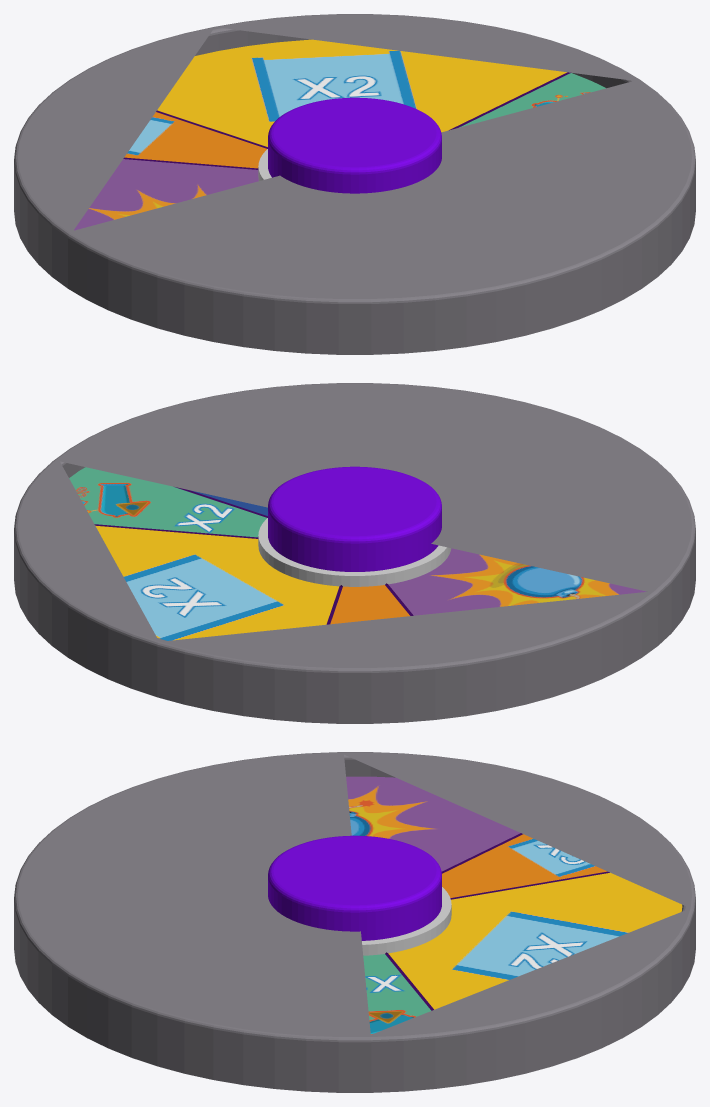
File: rulet.fbx
The picture shows the model from 3 angles, top to bottom: view 1: azimuth 30°, elevation 25°; view 2: azimuth 150°, elevation 25°; view 3: azimuth 270°, elevation 25°; orthographic projection.
Parts seen in each view (by area): view 1: Cylinder.002; view 2: Cylinder.002; view 3: Cylinder.002.
Part boxes in pixels (<box>): Cylinder.002: <box>14,14,695,354</box>; Cylinder.002: <box>14,383,695,723</box>; Cylinder.002: <box>14,752,695,1092</box>.
Bounding box in the file's own units: 543 × 68.76 × 543.
Materials: 10 (6 with a texture image).
